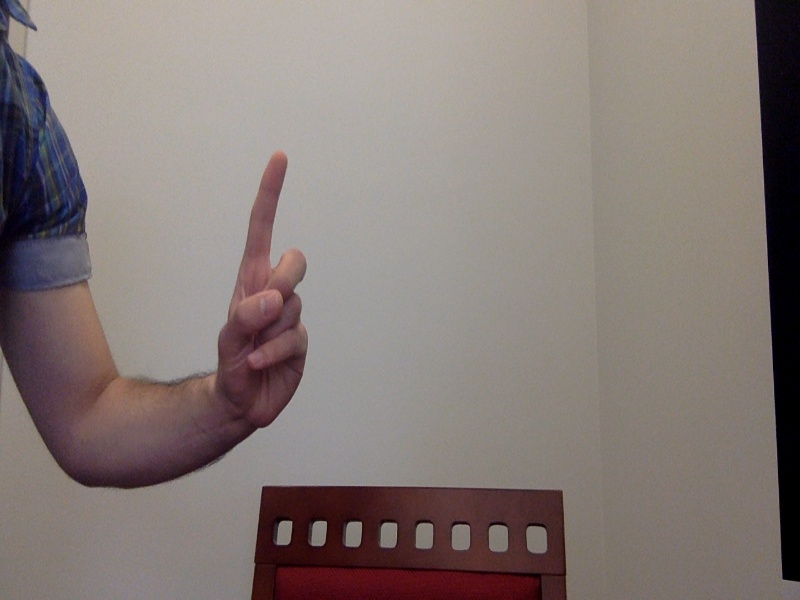1-hand: (215, 147, 333, 428)
